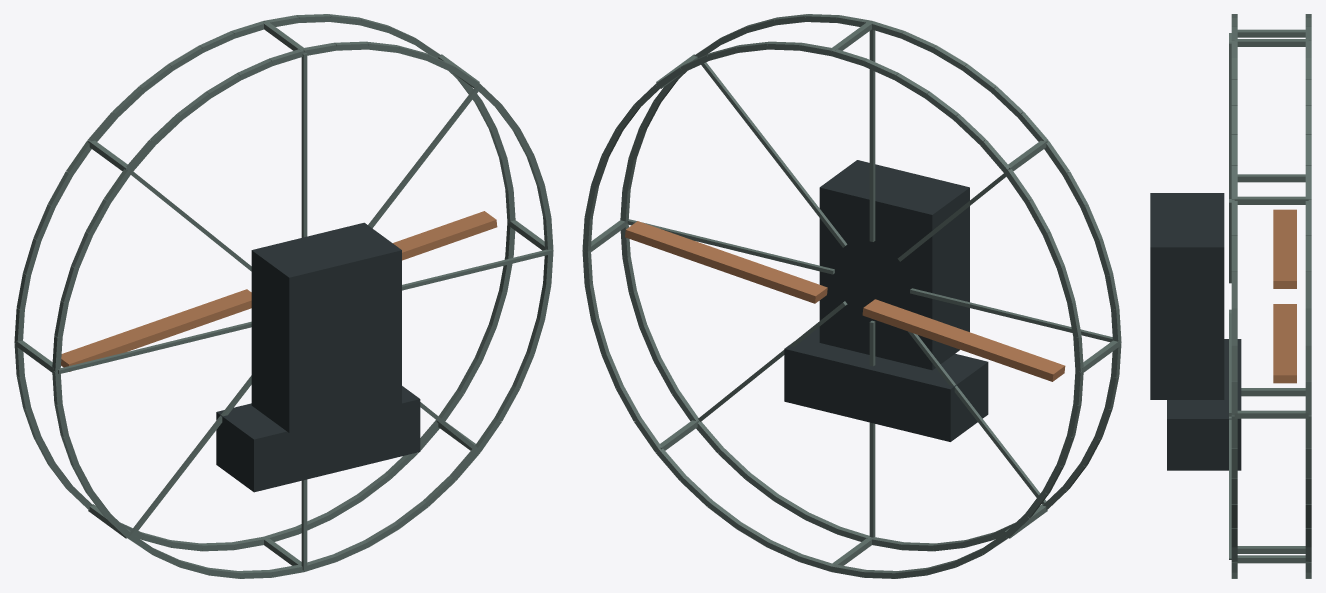
The model's file is paramotor.meshopt.glb.
3 renders of one model, left to right at view 1: azimuth 30°, elevation 25°; view 2: azimuth 150°, elevation 25°; view 3: azimuth 270°, elevation 25°, orthographic.
Parts seen in each view (by area): view 1: paramotor; view 2: paramotor; view 3: paramotor.
Boxes of the visible parts, <box> form: paramotor: <box>14,14,553,578</box>; paramotor: <box>582,14,1121,578</box>; paramotor: <box>1150,14,1311,578</box>.
Bounding box in the file's own units: 1.68 × 1.68 × 0.479.
